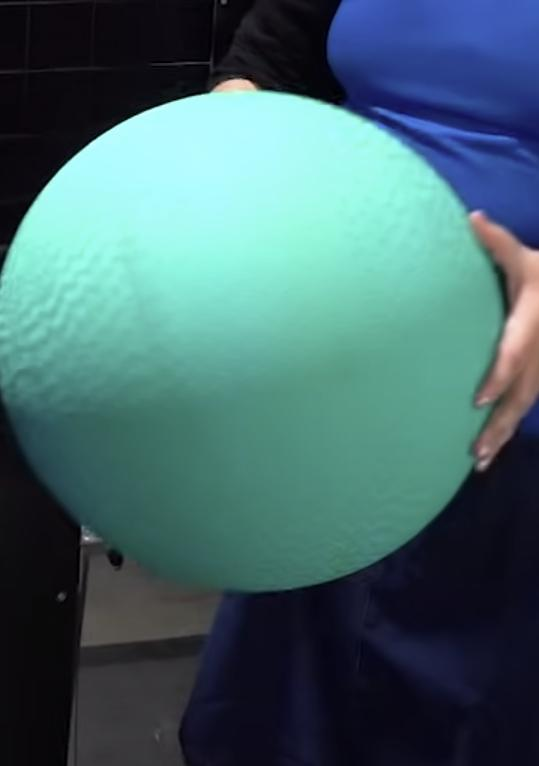algae: (0, 93, 505, 591)
